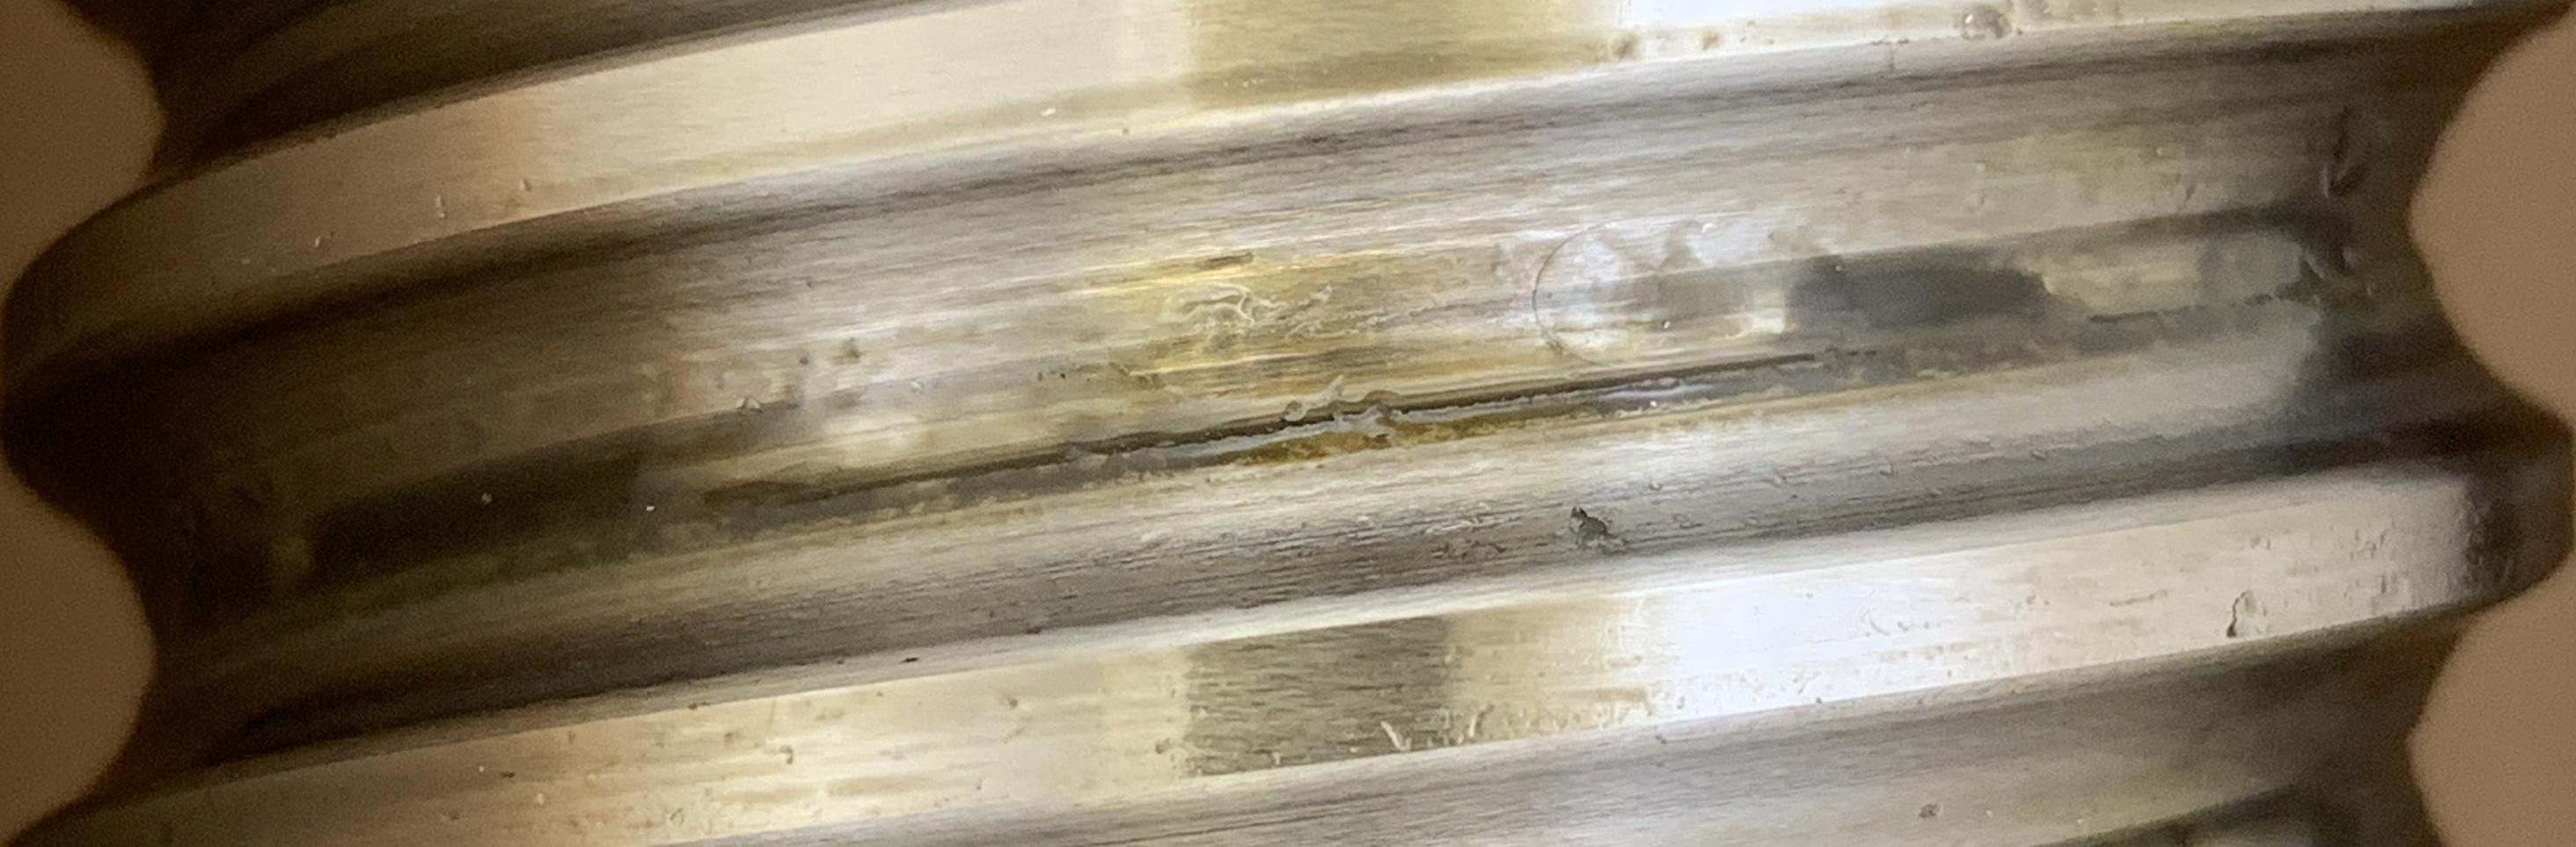pitting: (1571, 506, 1636, 555)
